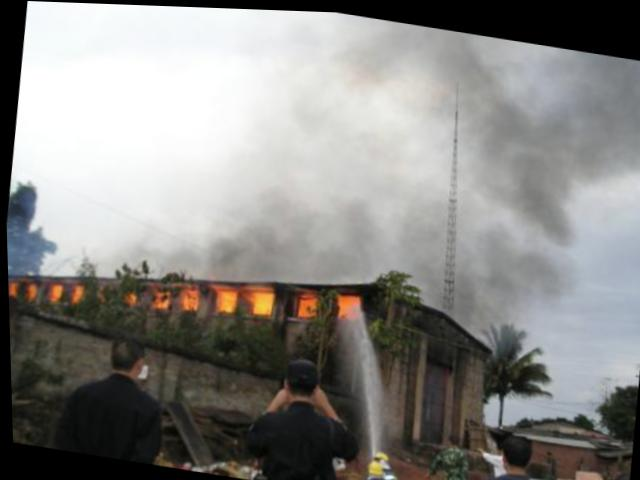fire: (244, 283, 274, 315), (333, 291, 356, 319), (175, 284, 198, 311), (210, 285, 234, 308), (293, 290, 316, 314), (146, 286, 169, 306), (64, 282, 82, 305), (19, 280, 36, 299), (43, 282, 60, 299), (6, 279, 15, 295)
